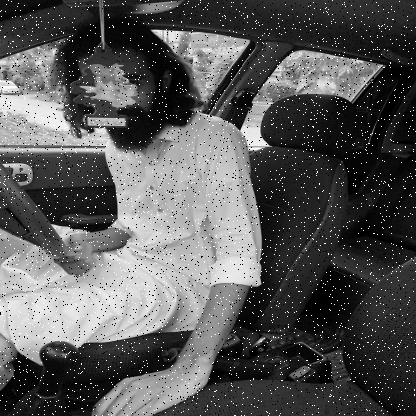no_seatbelt: (29, 20, 232, 304)
